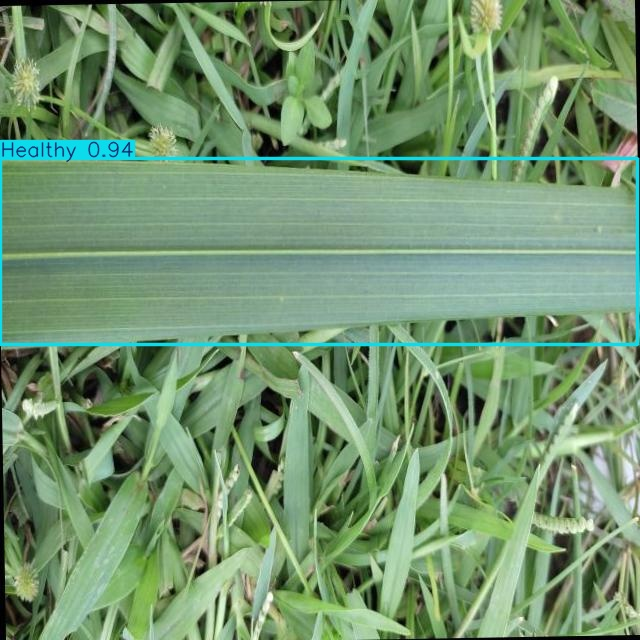Healthy: (0, 158, 638, 344)
